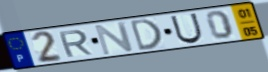0: (206, 10, 236, 41)
2: (30, 30, 65, 65)
D: (129, 17, 165, 53)
N: (93, 20, 136, 57)
R: (56, 29, 95, 59)
U: (169, 12, 205, 45)
